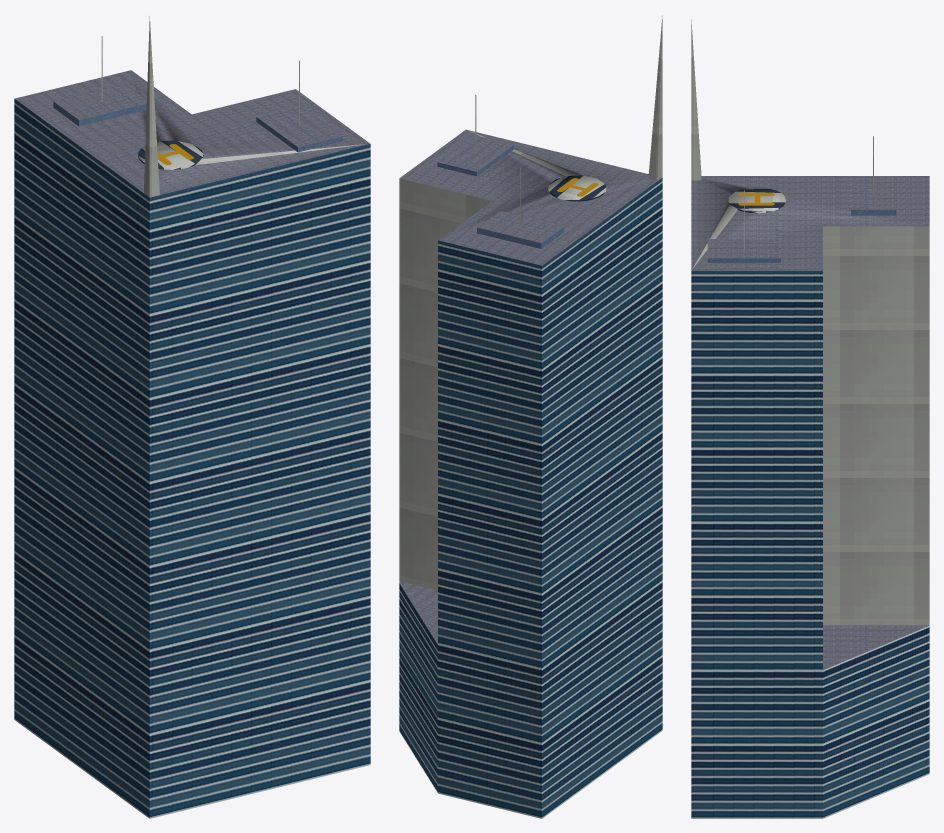
The model's file is Grand-Hotel-Moema.fbx.
The picture shows the model from 3 angles, left to right: view 1: azimuth 30°, elevation 25°; view 2: azimuth 150°, elevation 25°; view 3: azimuth 270°, elevation 25°; orthographic projection. The views are drawn at different scales.
Visible parts, largest first — view 1: preddie_o_1, toodo_toodo1; view 2: preddie_o_1, toodo_toodo1; view 3: preddie_o_1, toodo_toodo1.
Part boxes in pixels (x1,y1,x2,y2): preddie_o_1: [14, 70, 370, 818]; toodo_toodo1: [53, 16, 342, 197]; preddie_o_1: [399, 129, 662, 818]; toodo_toodo1: [437, 15, 662, 248]; preddie_o_1: [691, 176, 929, 818]; toodo_toodo1: [691, 19, 896, 262].
Size of the model in its own units: 125 by 437 by 133.
